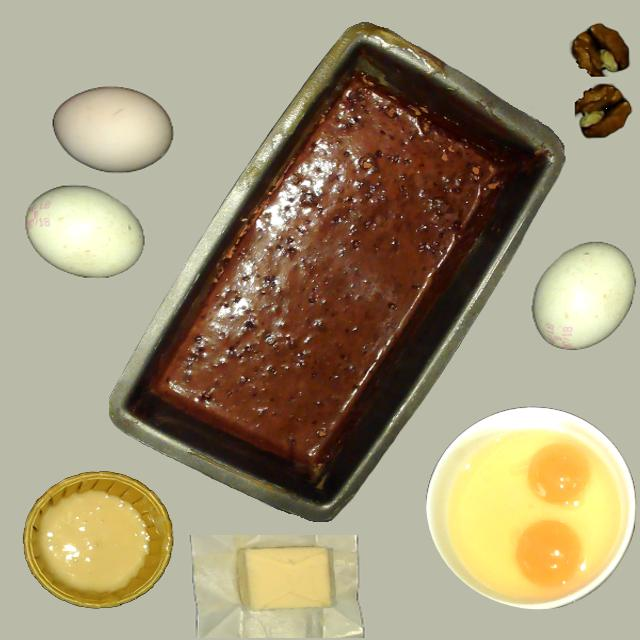Egg: (497, 507, 607, 613), (521, 431, 619, 509)
